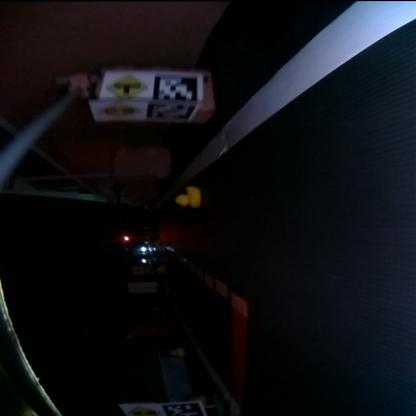Duckie: (175, 186, 199, 208)
Intersection sign: (104, 74, 146, 100)
QR code: (154, 72, 198, 98), (147, 103, 195, 121), (162, 402, 202, 416)
Signal sign: (98, 102, 142, 120), (125, 405, 160, 415)
